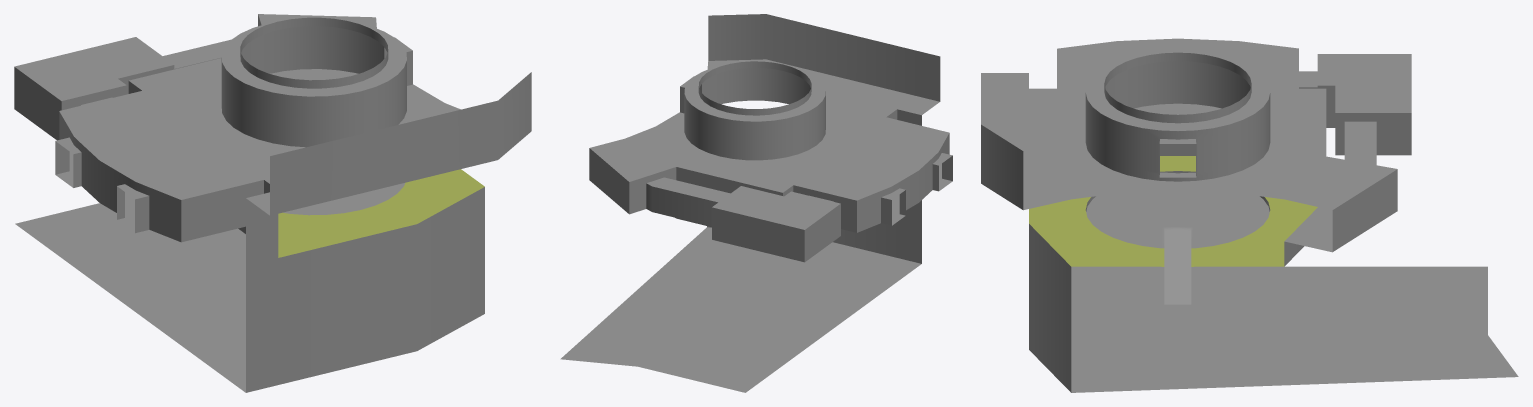
File: Level_00_C.fbx
3 views of the same model, side by side, from view 1: azimuth 30°, elevation 25°; view 2: azimuth 150°, elevation 25°; view 3: azimuth 270°, elevation 25° (orthographic). The views are drawn at different scales.
Visible parts, largest first — view 1: Geom_Level_00_C_LOD00; view 2: Geom_Level_00_C_LOD00; view 3: Geom_Level_00_C_LOD00.
Part boxes in pixels (<box>): Geom_Level_00_C_LOD00: <box>14,14,531,392</box>; Geom_Level_00_C_LOD00: <box>560,14,952,392</box>; Geom_Level_00_C_LOD00: <box>981,38,1518,392</box>.
Size of the model in its own units: 4431 by 3003 by 5790.
